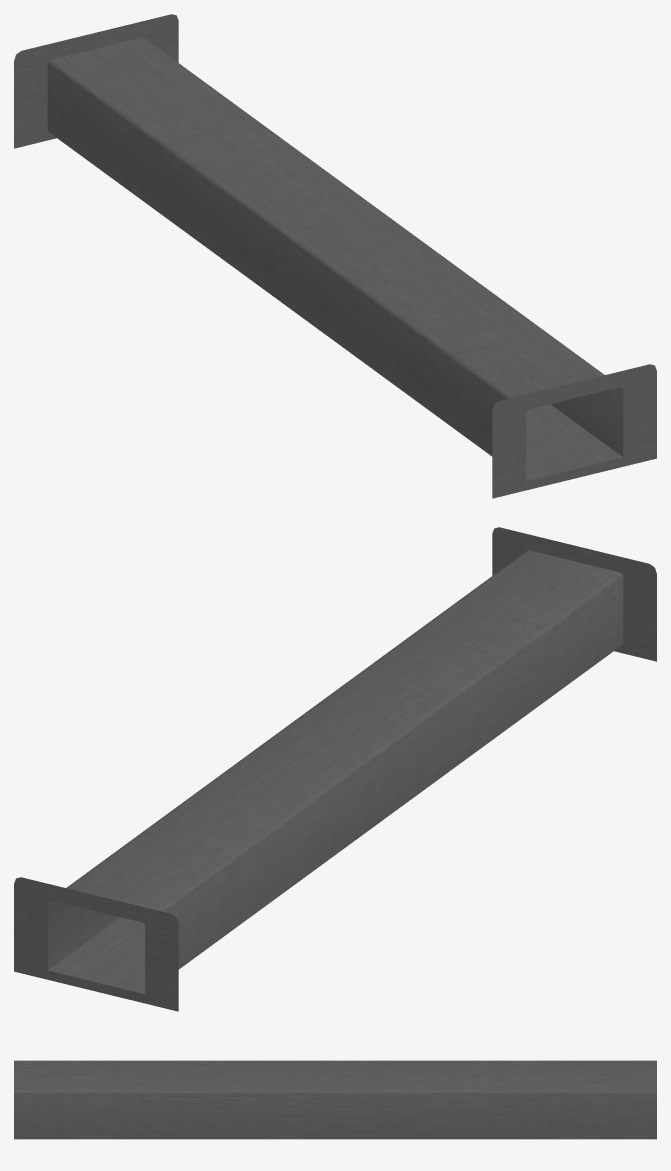
File: tunnel.glb
The picture shows the model from 3 angles, top to bottom: view 1: azimuth 30°, elevation 25°; view 2: azimuth 150°, elevation 25°; view 3: azimuth 270°, elevation 25°; orthographic projection. The views are drawn at different scales.
Parts seen in each view (by area): view 1: Mesh_0; view 2: Mesh_0; view 3: Mesh_0.
Part boxes in pixels (bbox=[...]): Mesh_0: bbox=[14, 14, 656, 498]; Mesh_0: bbox=[14, 527, 656, 1011]; Mesh_0: bbox=[14, 1060, 656, 1139].
Bounding box in the file's own units: 2.89 × 1.61 × 14.54.
Materials: 1 (1 with a texture image).
